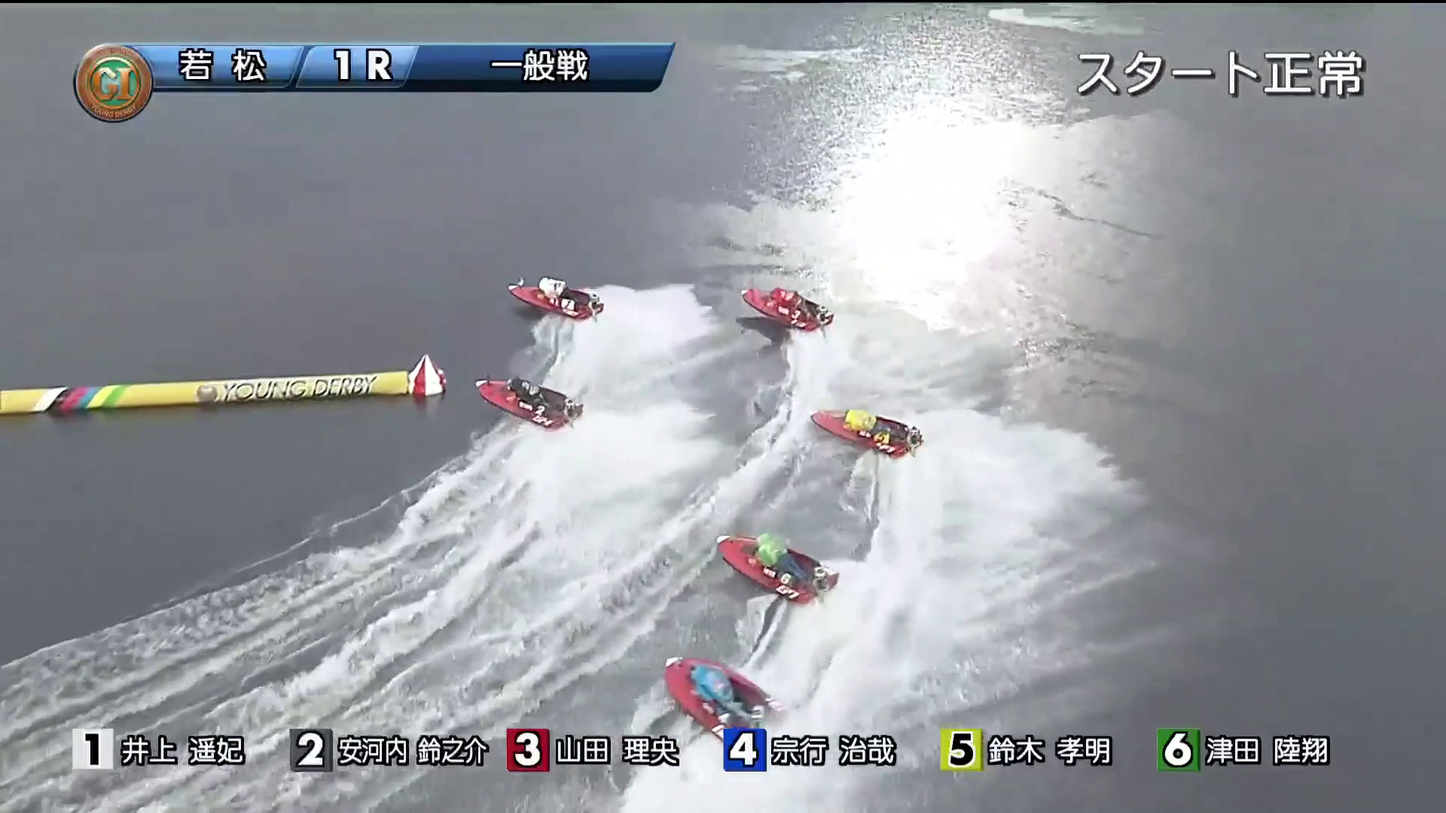１号艇: (493, 286, 564, 339)
２号艇: (445, 374, 573, 434)
３号艇: (750, 276, 847, 323)
４号艇: (703, 533, 837, 599)
５号艇: (674, 669, 798, 724)
６号艇: (823, 389, 923, 470)
